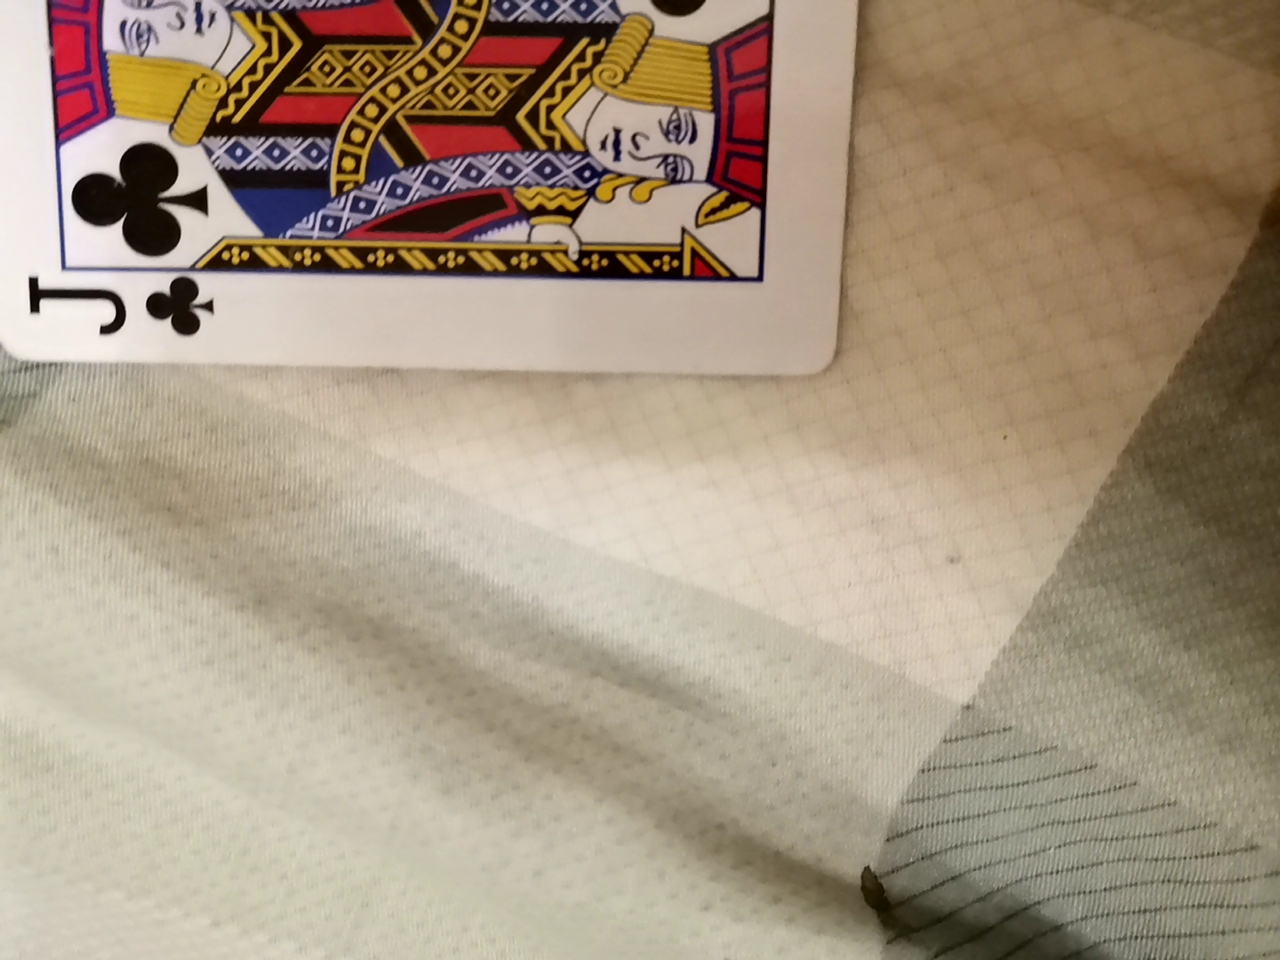mh j: (8, 5, 871, 388)
